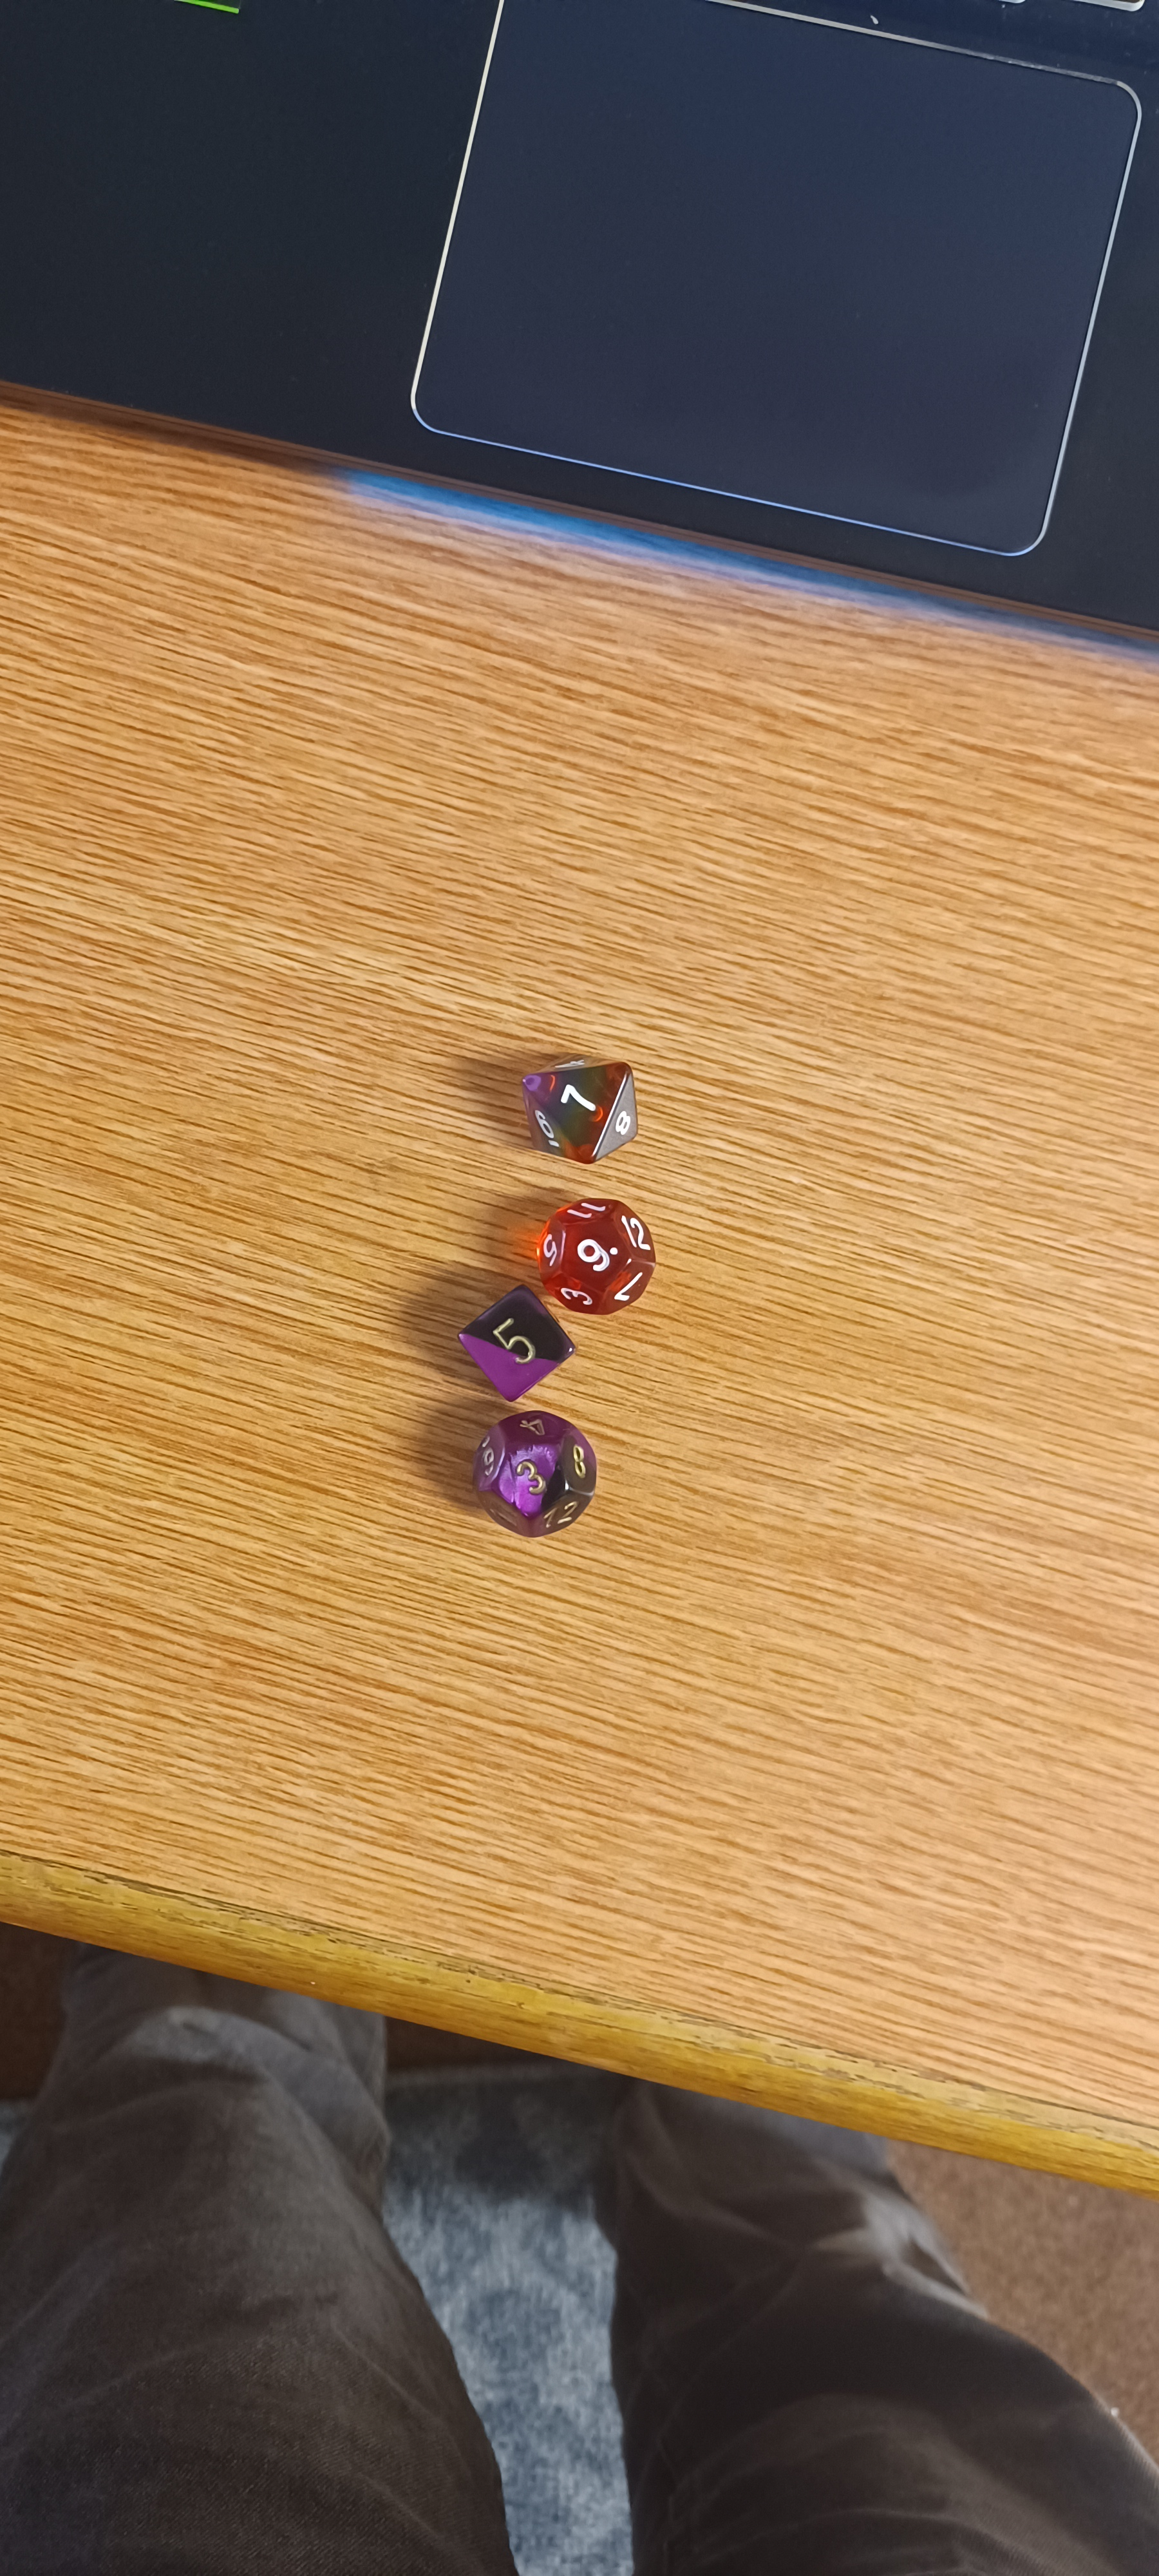five: (447, 1265, 589, 1421)
nine: (527, 1181, 663, 1326)
seven: (497, 1035, 662, 1178)
three: (440, 1400, 630, 1556)
